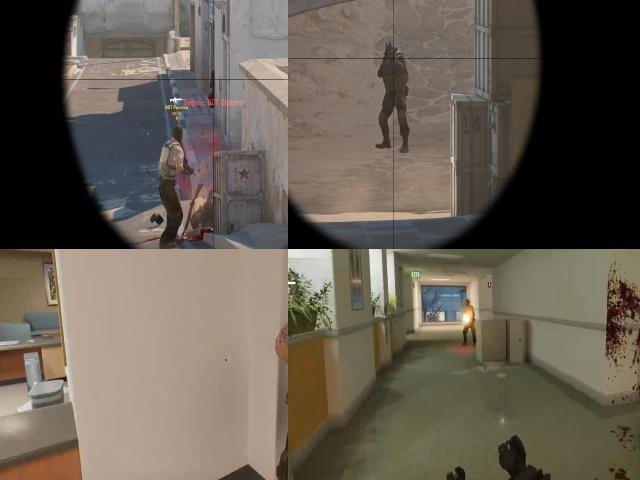CT: (383, 45, 408, 149), (210, 70, 215, 108)
CT-Head: (385, 46, 394, 62), (212, 70, 214, 77)
Dead: (191, 188, 214, 230)
T: (162, 128, 183, 246), (461, 297, 477, 342)
T-Head: (462, 297, 473, 310), (173, 127, 183, 141)
